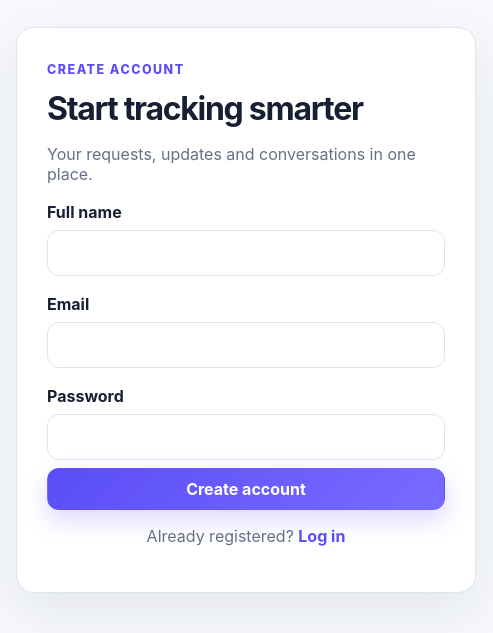
IssueFlow UI › shows validation for short password
This screenshot has width=493, height=633.
Type "Test User" into the field labelled "Full name".
click(246, 252); type("Test User")  # box x1=47 y1=230 x2=445 y2=276
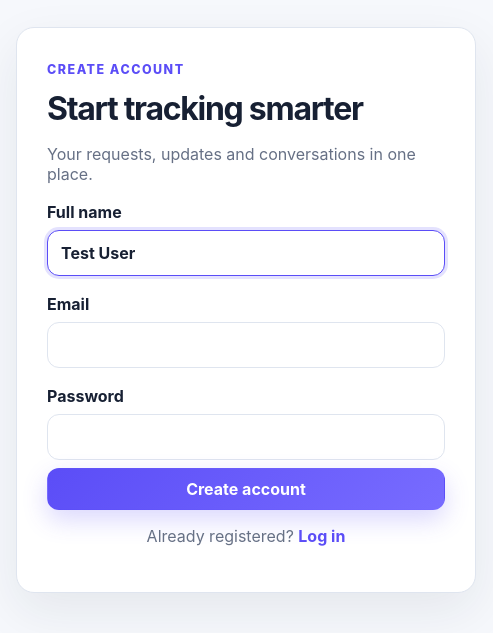
Type "test@example.com" into the field labelled "Email".
click(246, 344); type("test@example.com")  # box x1=47 y1=322 x2=445 y2=368
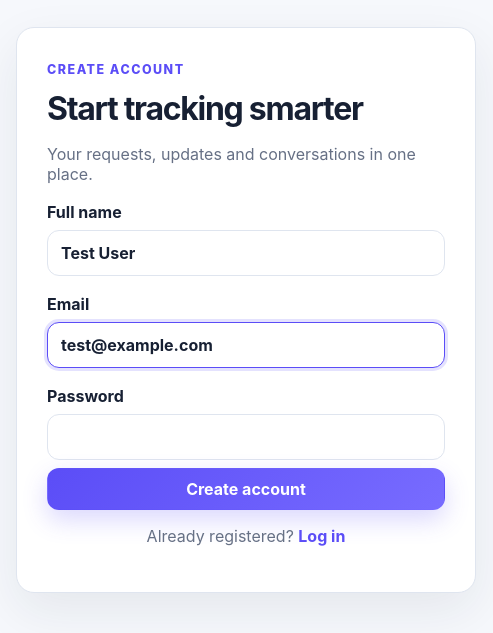
Type "123" into the password field labelled "Password".
click(246, 436); type("123")  # box x1=47 y1=414 x2=445 y2=460
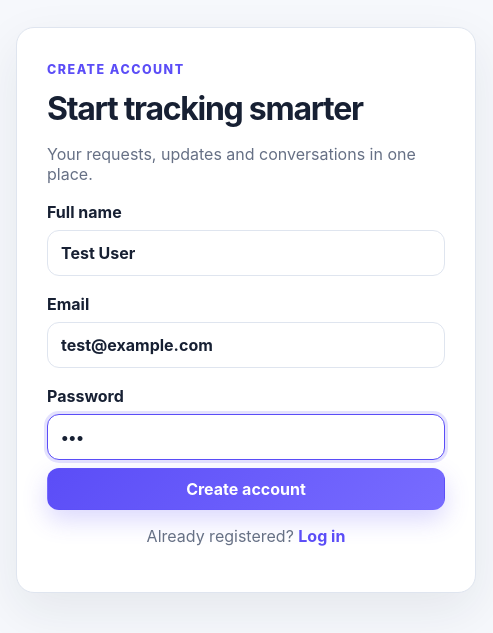
Click the button "Create account".
click(246, 488)  # box x1=47 y1=468 x2=445 y2=510
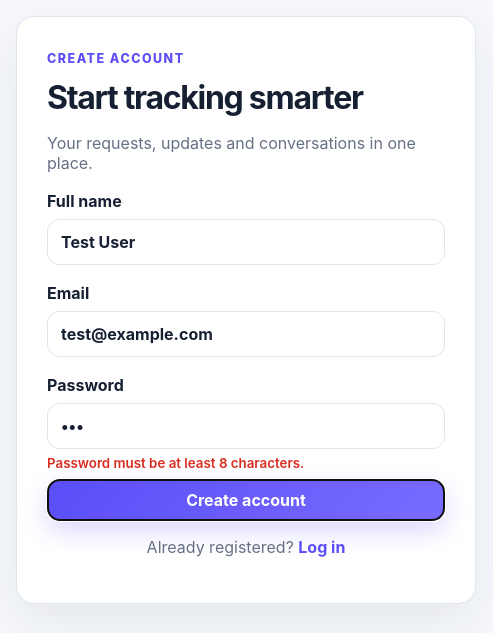
Now the text "Password must be at least 8 characters." is shown, box x1=47 y1=454 x2=304 y2=470
